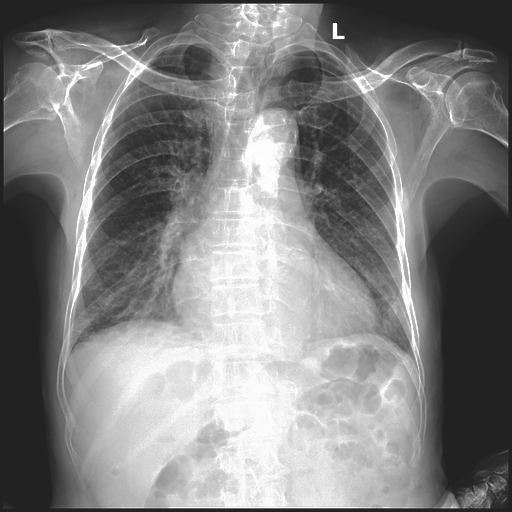Consolidation: (244, 106, 300, 161)
Nodule/Mass: (168, 263, 378, 343)
